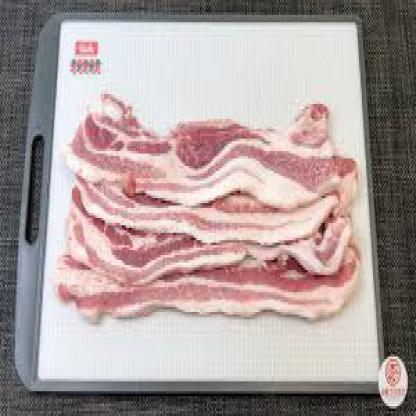pork: (78, 97, 340, 198), (60, 243, 360, 324), (66, 200, 346, 278)
